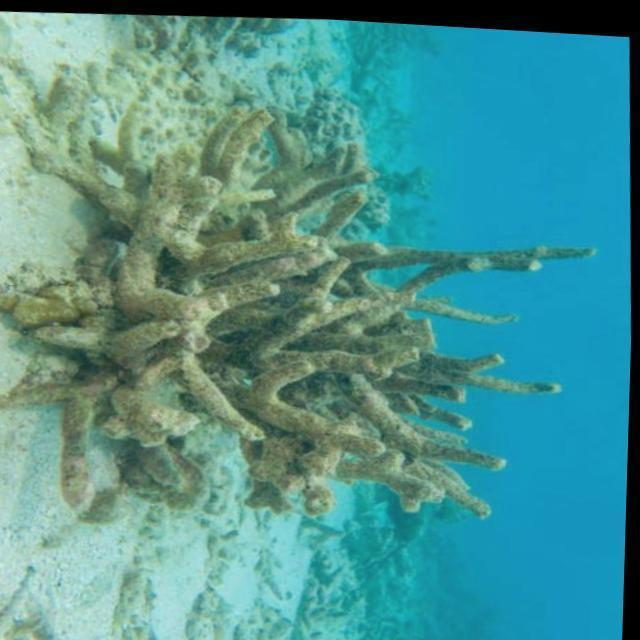Dead Coral: (8, 51, 597, 572)
